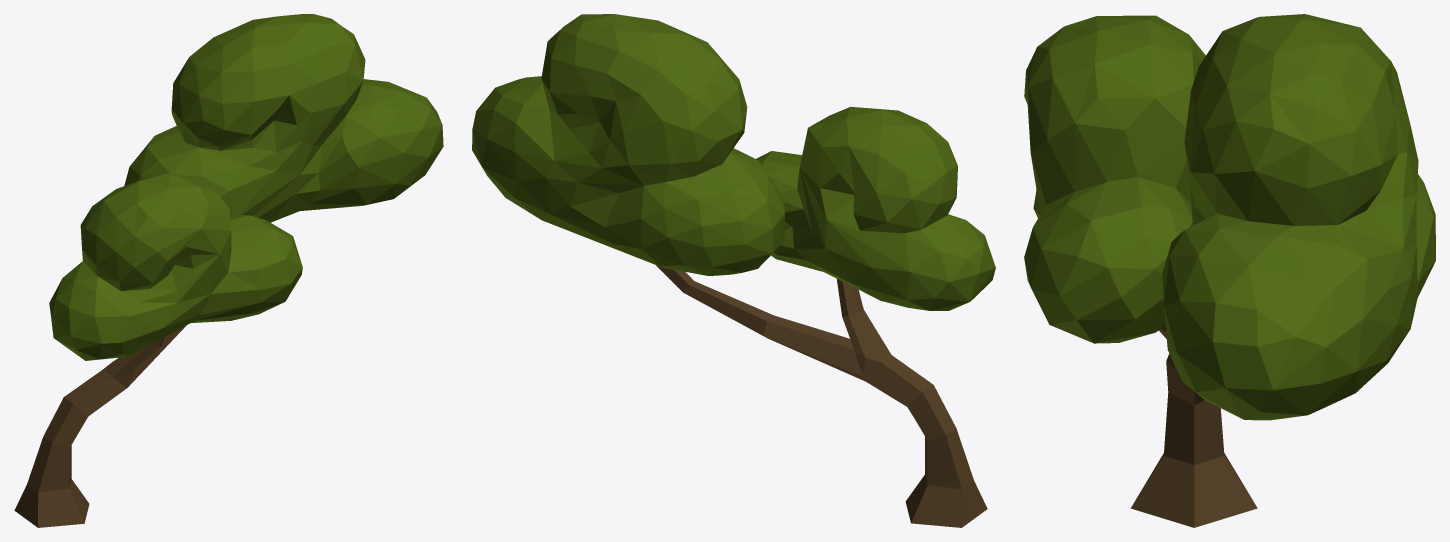
File: TreesAndBushes_088.fbx
The picture shows the model from 3 angles, left to right: view 1: azimuth 30°, elevation 25°; view 2: azimuth 150°, elevation 25°; view 3: azimuth 270°, elevation 25°; orthographic projection. The views are drawn at different scales.
Visible parts, largest first — view 1: TreesAndBushes_088; view 2: TreesAndBushes_088; view 3: TreesAndBushes_088.
Boxes of the visible parts, box(x1,y1,x2,y2) form: TreesAndBushes_088: box(14, 14, 443, 527); TreesAndBushes_088: box(472, 14, 995, 527); TreesAndBushes_088: box(1024, 14, 1435, 527).
Size of the model in its own units: 239 by 213 by 119.
